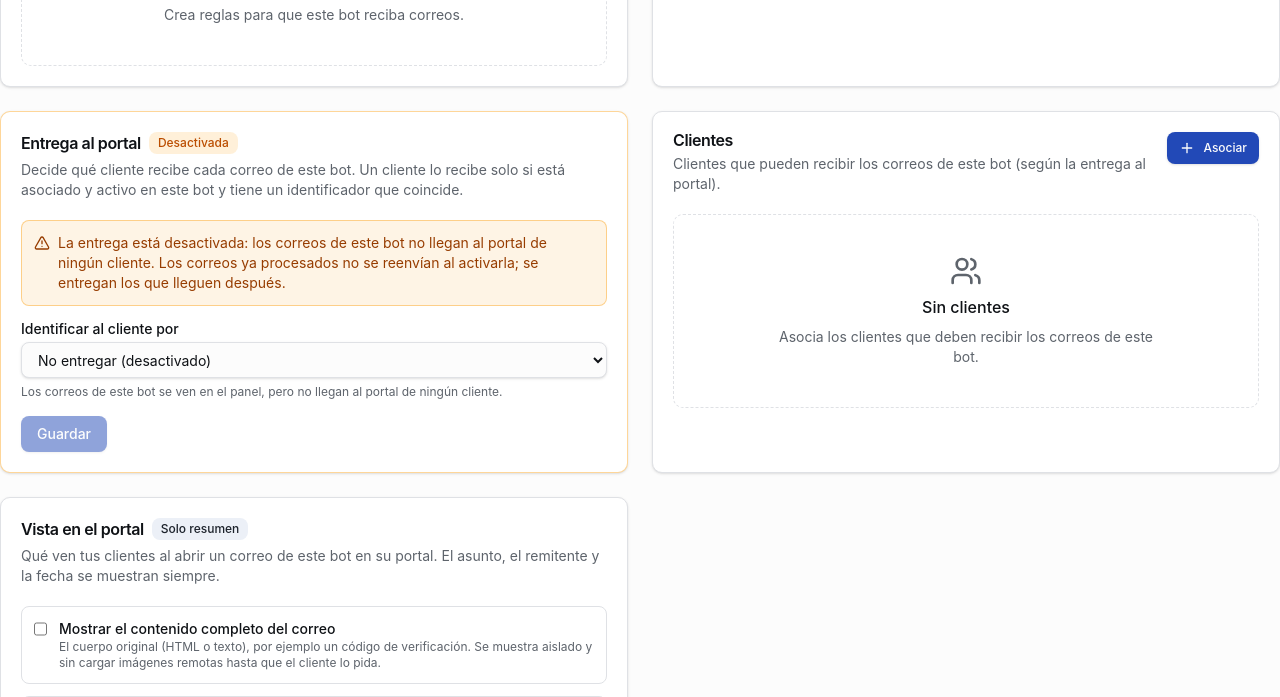
bot page: delivery to the customer portal › an admin activates it by recipient: PATCH /api/bots/:id sends the resolution and the warning disappears
The image size is (1280, 697).
(page scrolled)
Select "Destinatario del correo (Para y CC)" in the dropdown labelled "Identificar al cliente por" at {"x": 314, "y": 360}, box [21,342,607,378]
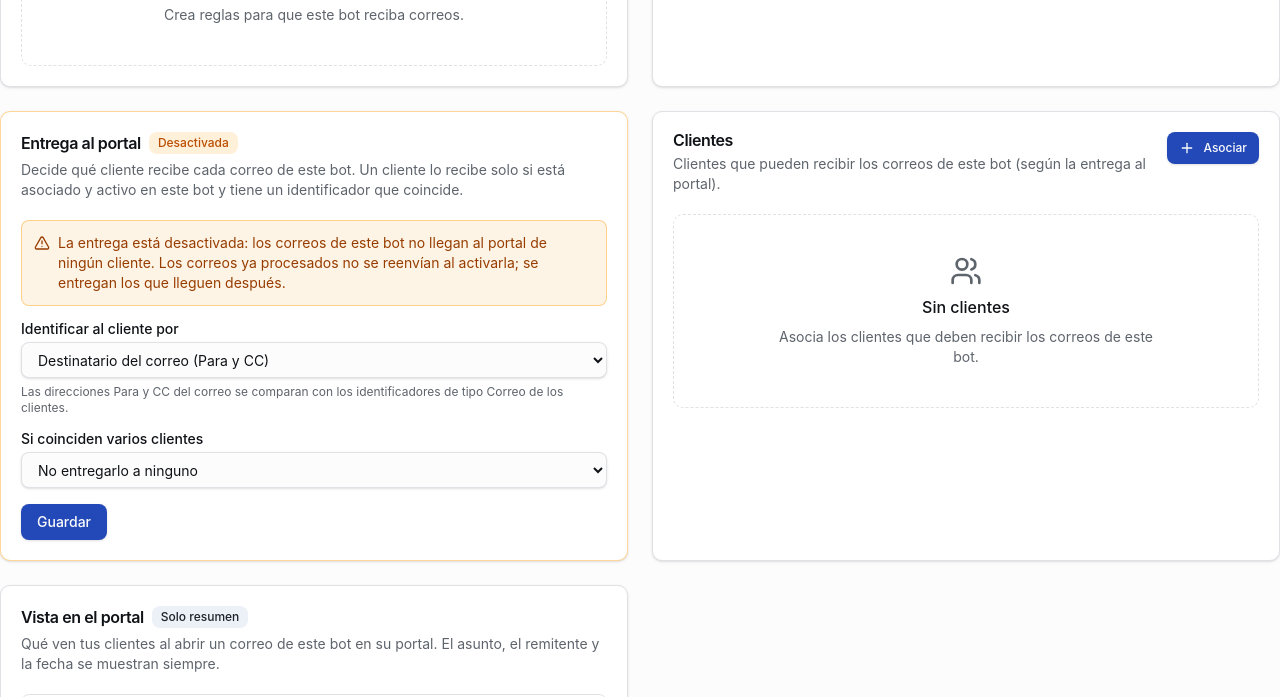
Click the button "Guardar" at {"x": 64, "y": 522}, box [21,504,107,540]
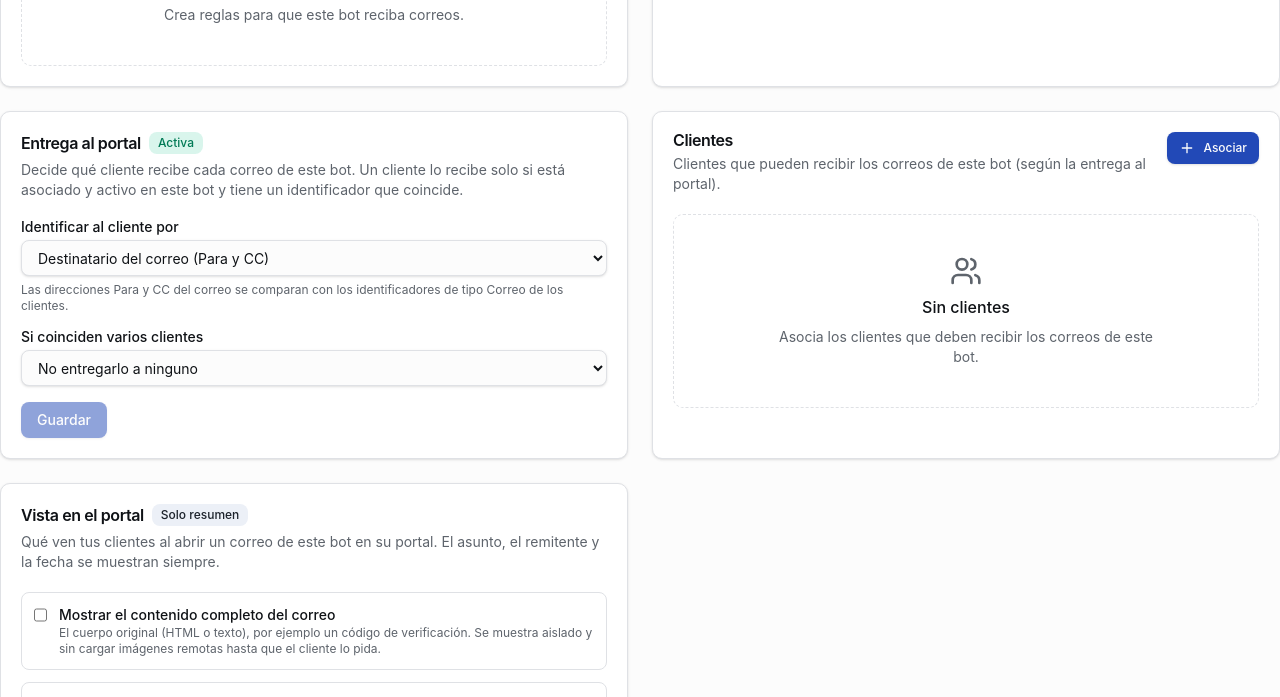
Expected: the text "Activa" is shown, [149,132,203,154]
Expected: the message is gone
